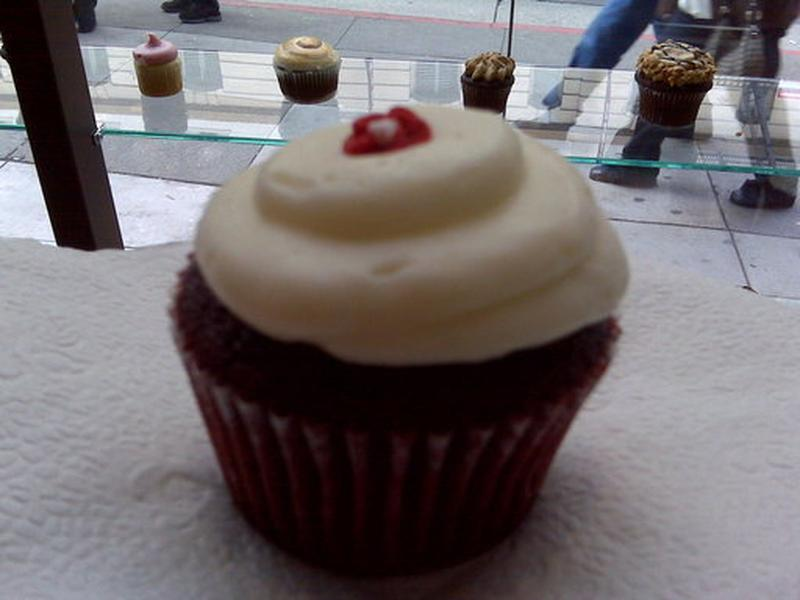cup_cake: (148, 38, 680, 600)
